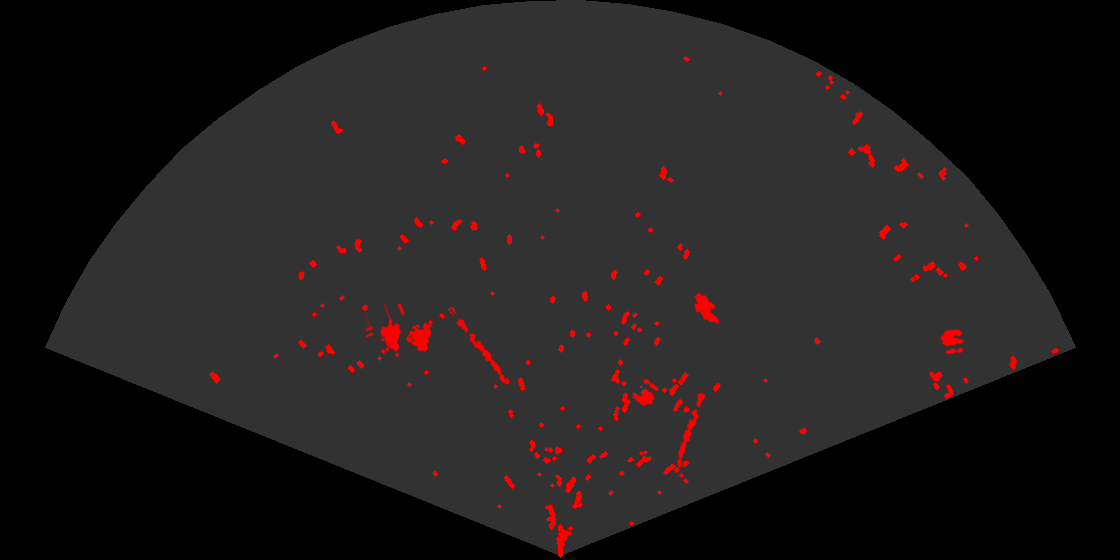AUV: (693, 291, 721, 326)
ball: (630, 377, 660, 408), (939, 328, 966, 356)
cage: (366, 304, 433, 359)
chain: (450, 307, 507, 385), (676, 386, 707, 470)
